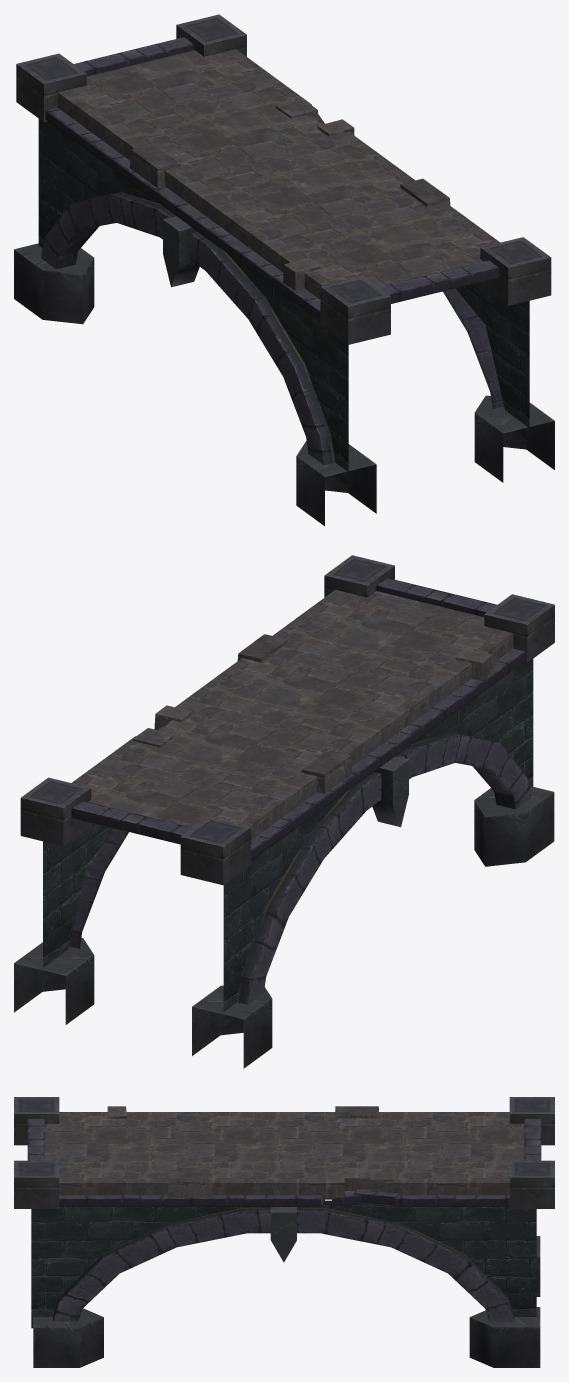
File: building_section02_guanka10C14.FBX
3 renders of one model, top to bottom at view 1: azimuth 30°, elevation 25°; view 2: azimuth 150°, elevation 25°; view 3: azimuth 270°, elevation 25°, orthographic. The views are drawn at different scales.
Visible parts, largest first — view 1: building_section02_guanka10C14; view 2: building_section02_guanka10C14; view 3: building_section02_guanka10C14.
Part boxes in pixels (left/top/right/bottom): building_section02_guanka10C14: left=14, top=14, right=554, bottom=526; building_section02_guanka10C14: left=14, top=555, right=554, bottom=1068; building_section02_guanka10C14: left=14, top=1097, right=554, bottom=1367.
Bounding box in the file's own units: 10.79 × 10.11 × 26.96.
